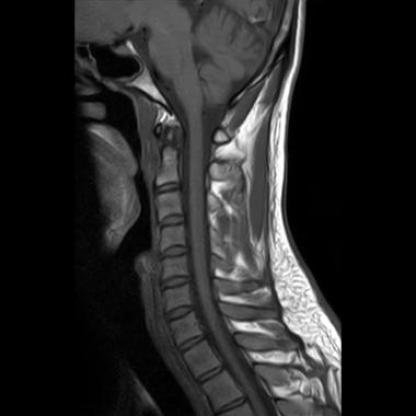Degenerative Disc Diseaserotation: (165, 303, 197, 321), (158, 244, 190, 262), (158, 212, 187, 228)
